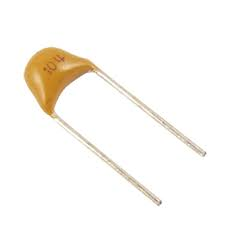ceramic capacitor: (4, 32, 135, 139)
